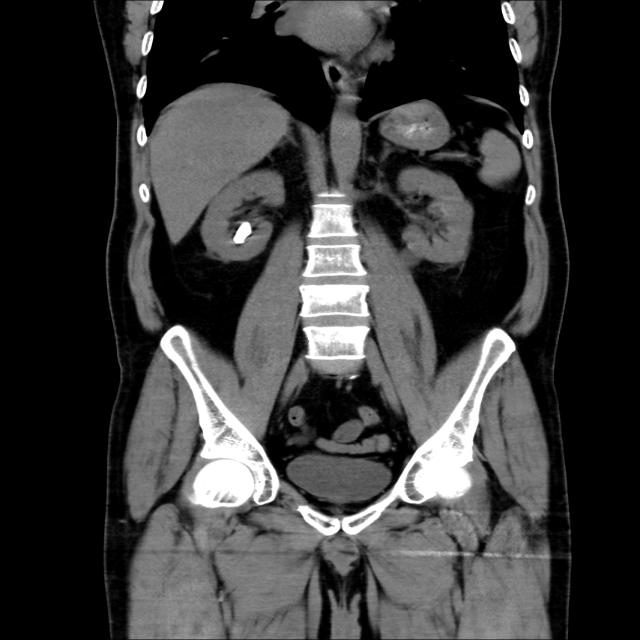kidneystone: (233, 221, 252, 244)
